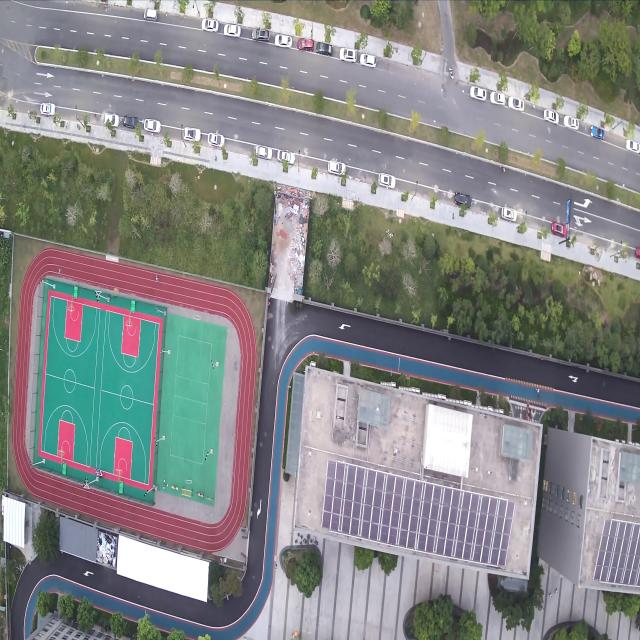UAV: (56, 266, 62, 276)
